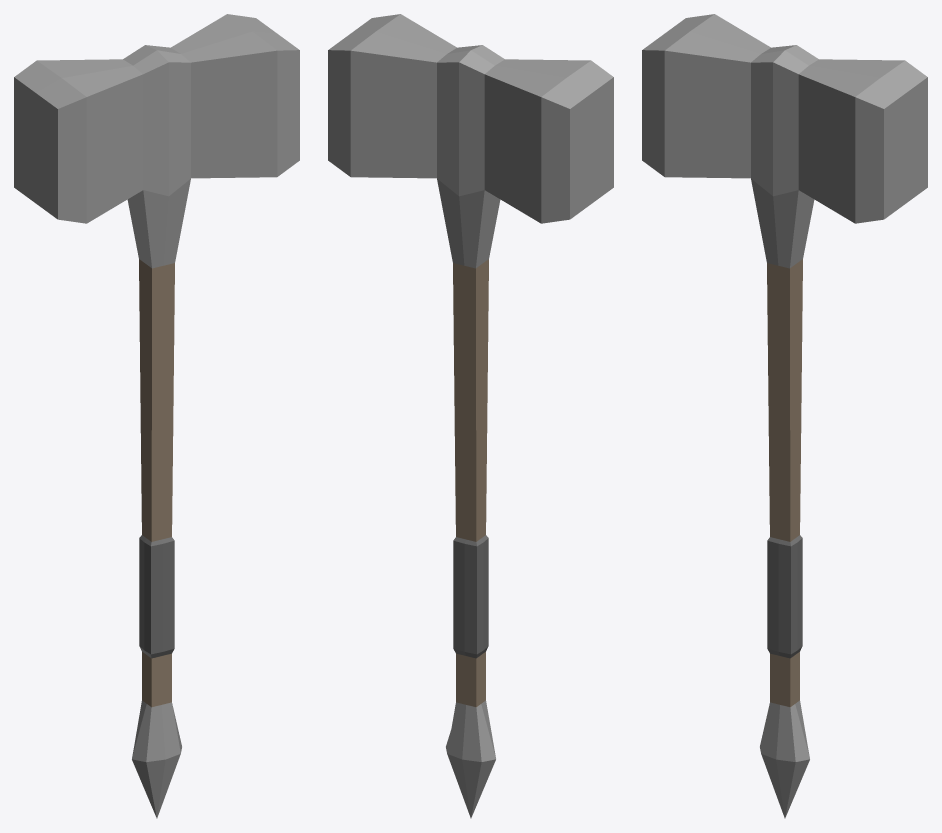
Rendered from Hammer.fbx.
3 views of the same model, side by side, from view 1: azimuth 30°, elevation 25°; view 2: azimuth 150°, elevation 25°; view 3: azimuth 330°, elevation 25° (orthographic).
Visible parts, largest first — view 1: Hammer; view 2: Hammer; view 3: Hammer.
Part boxes in pixels (box(x1,y1,x2,y2)): Hammer: box(14, 14, 299, 818); Hammer: box(328, 14, 613, 818); Hammer: box(642, 14, 927, 818).
Size of the model in its own units: 516 by 1566 by 185.
